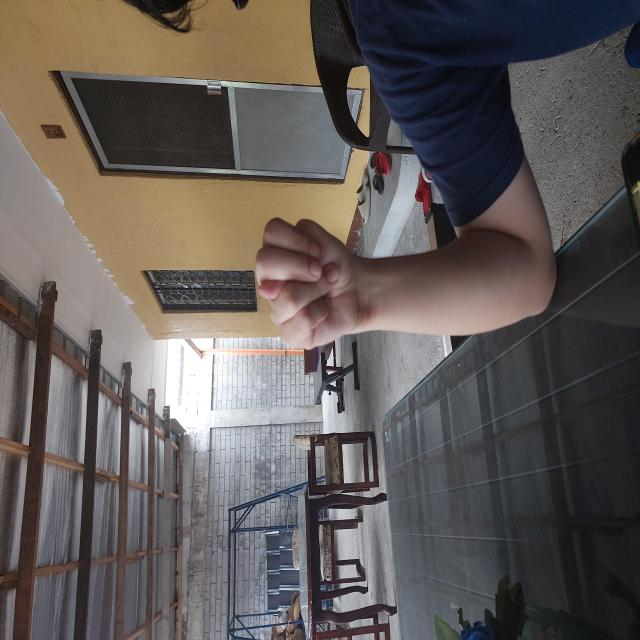N: (238, 195, 379, 382)
